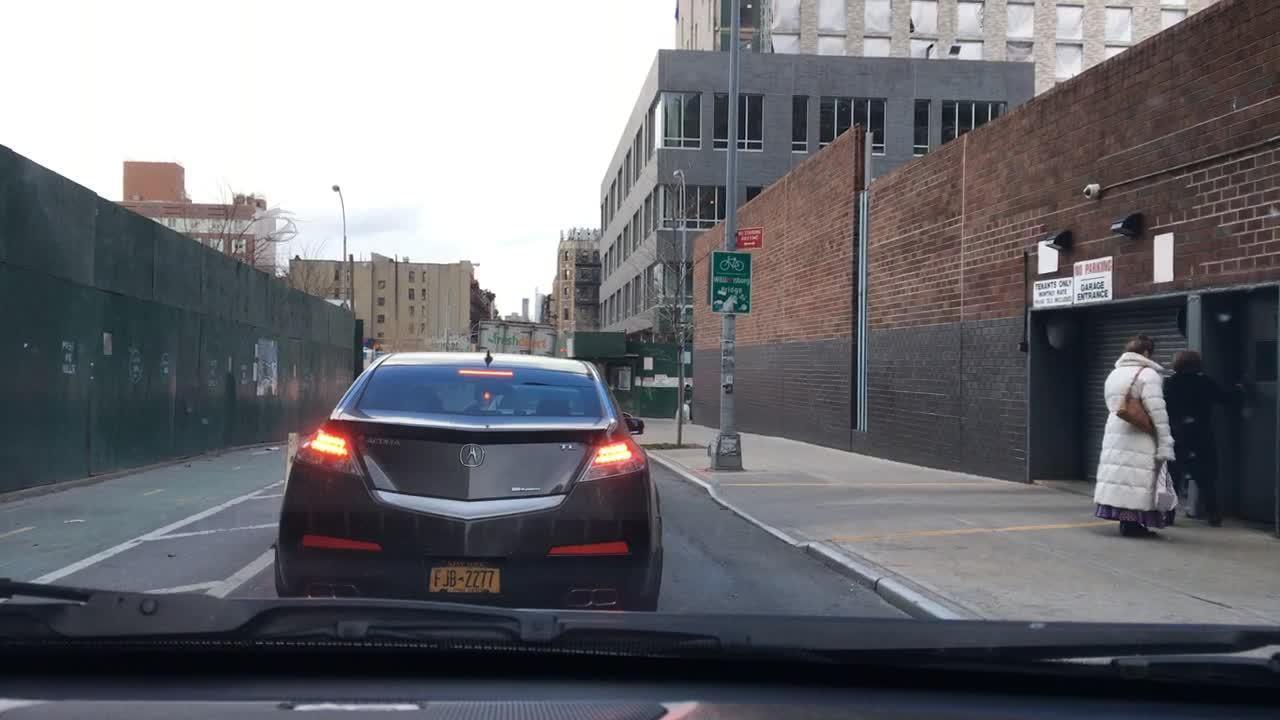acura: (452, 435, 495, 476)
